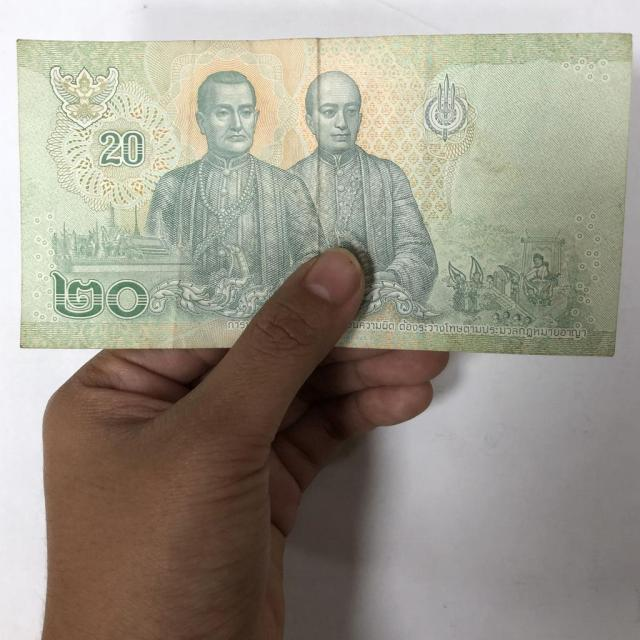THAI20: (18, 35, 632, 356)
